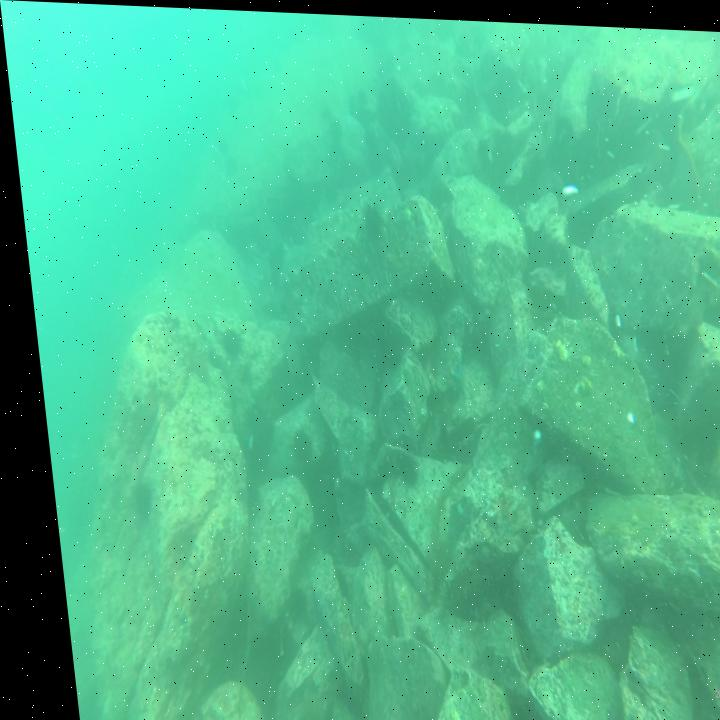echinus: (272, 414, 311, 476), (114, 469, 149, 527), (352, 191, 388, 246), (382, 440, 417, 486), (208, 322, 238, 361)
